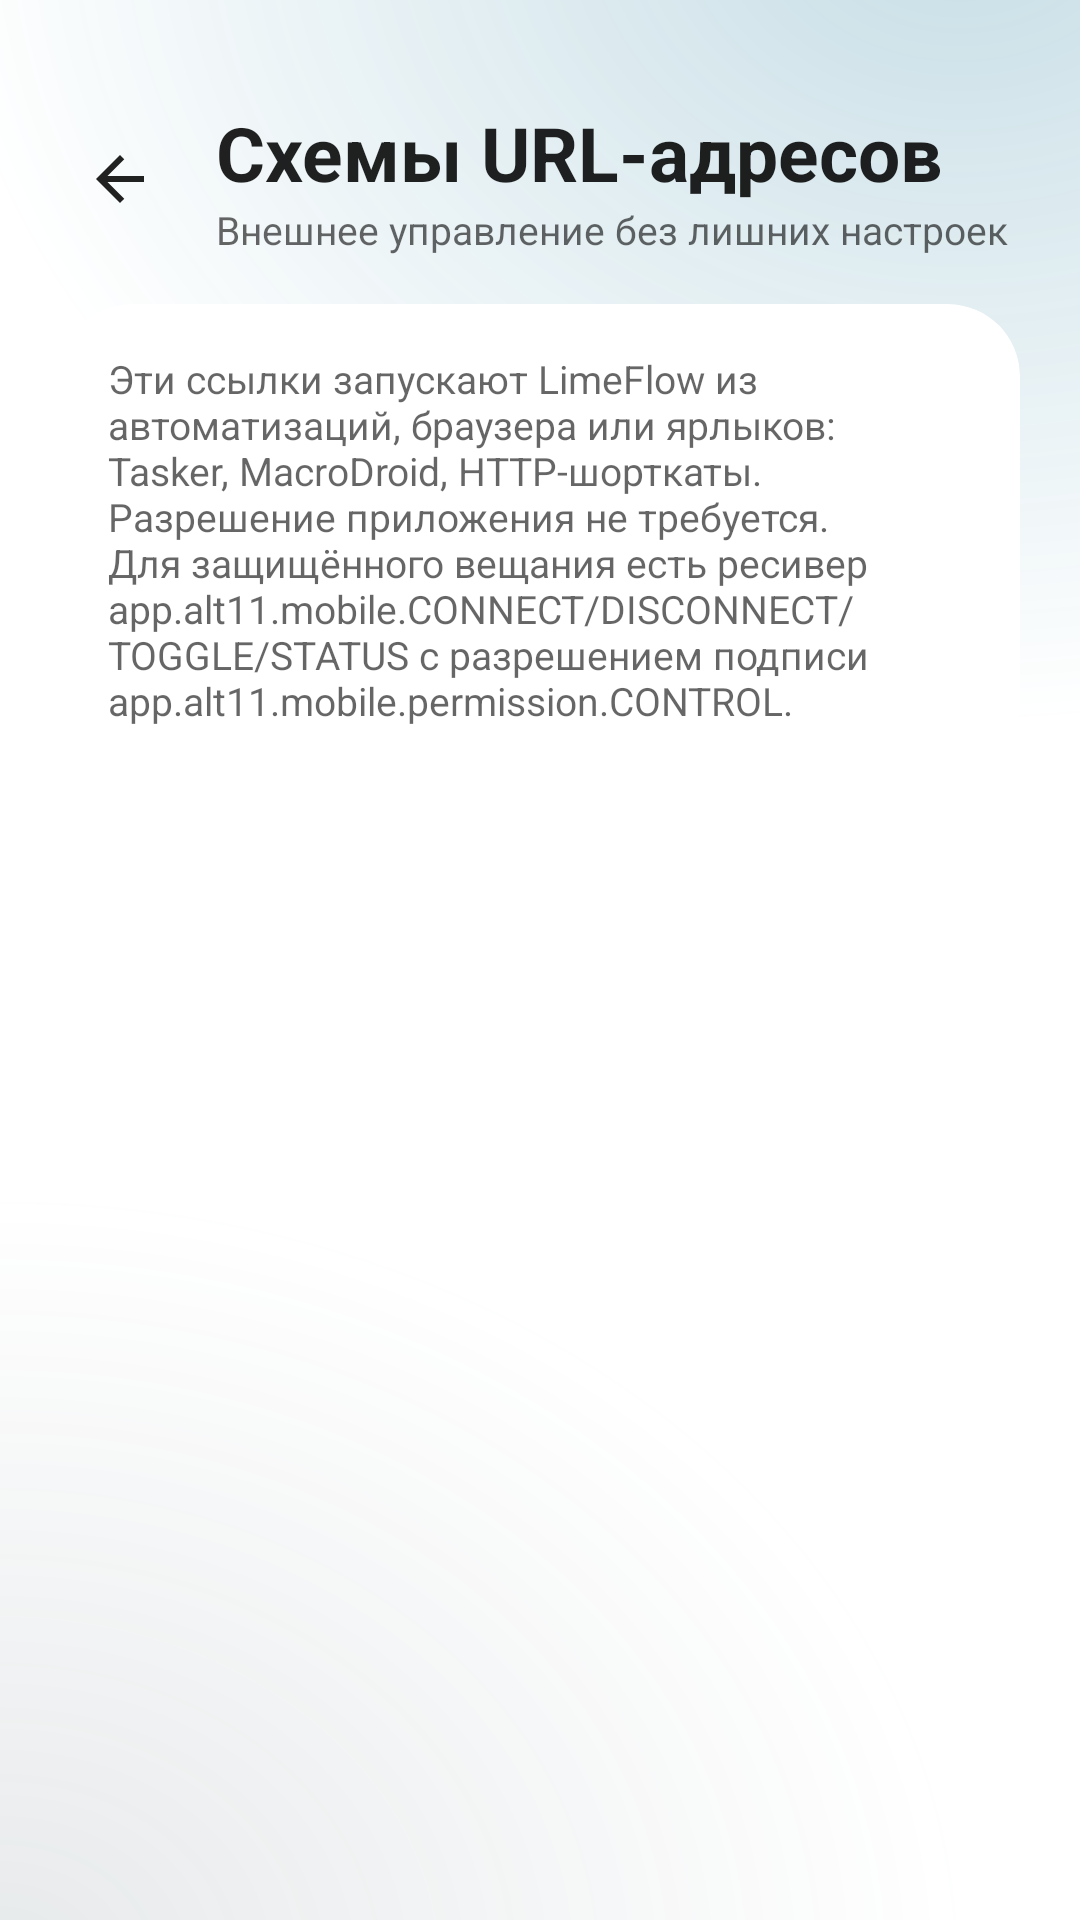

Named icons in this screenshot (1080×1920) and their centers, point (x, y):
Назад: point (120, 179)
